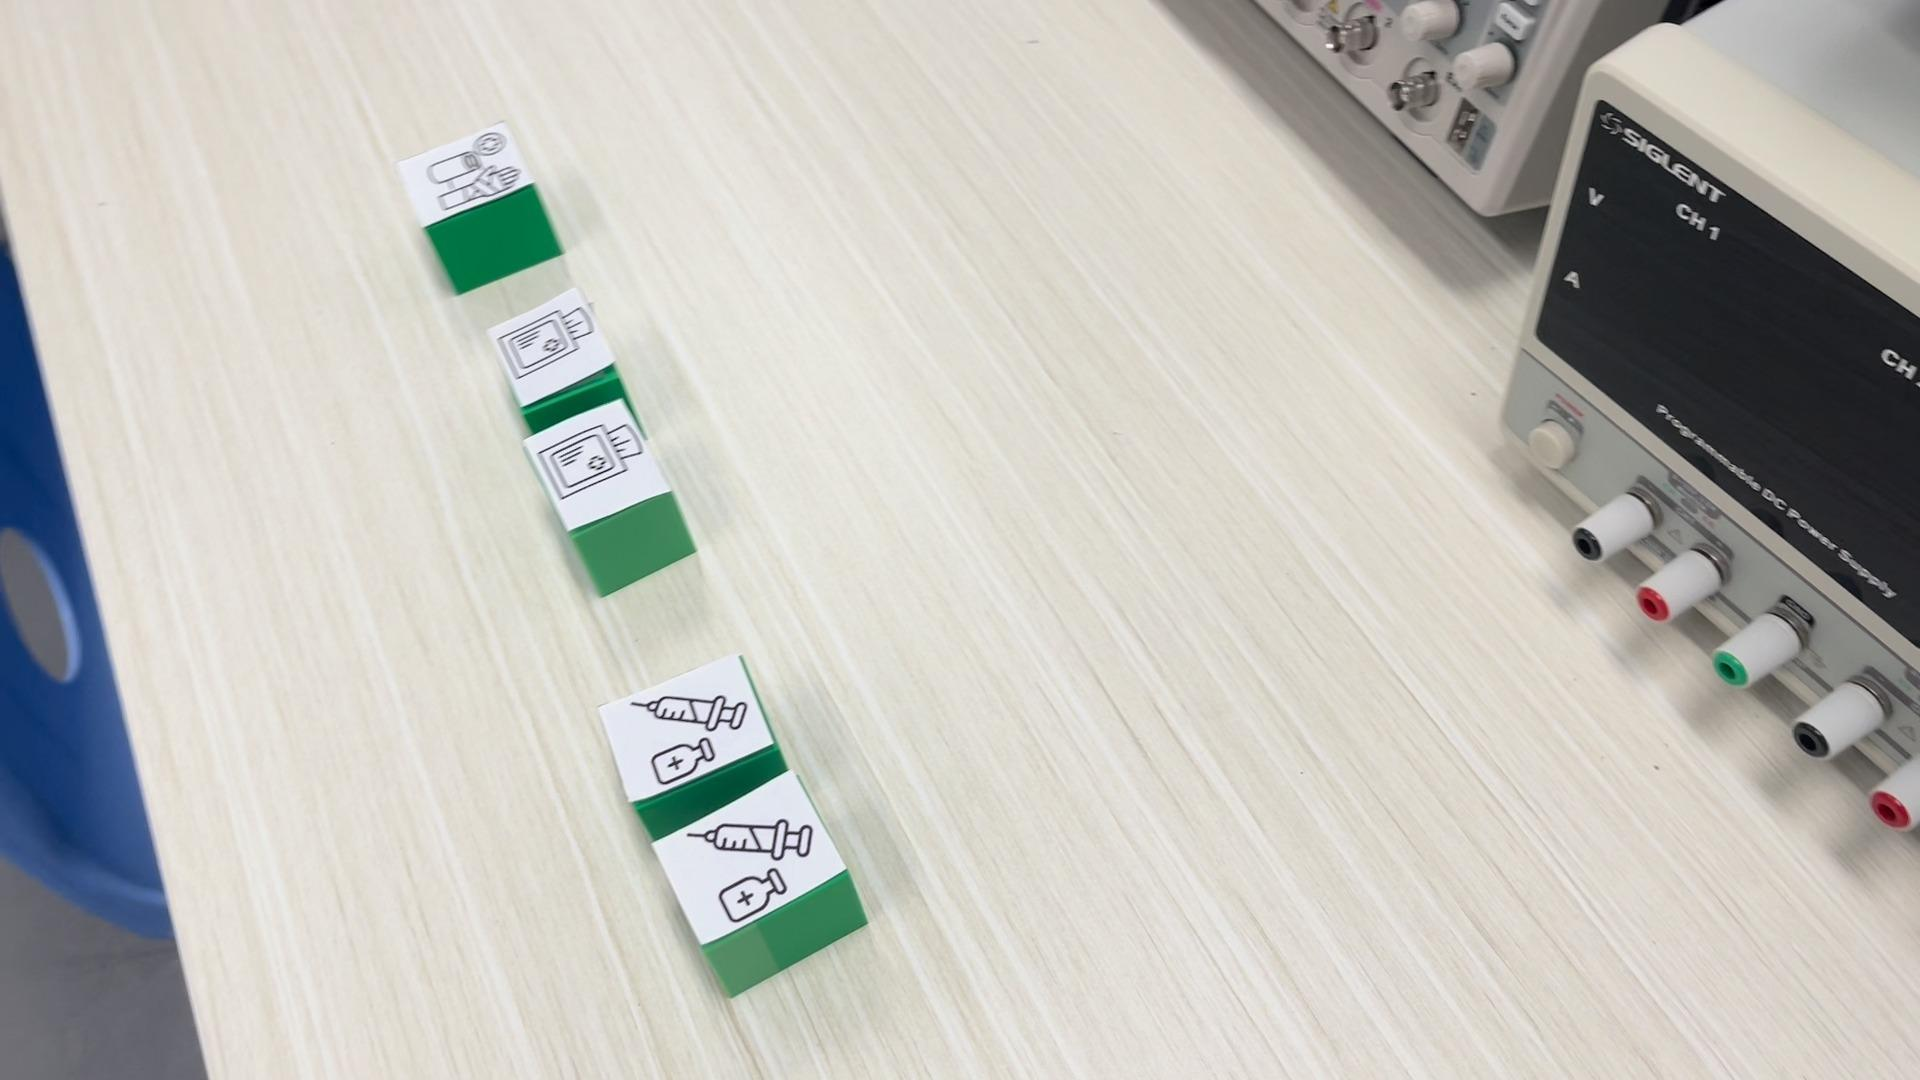Bandages: (393, 119, 564, 295)
Gauze: (524, 396, 695, 599), (487, 285, 617, 418)
antiseptic cream: (640, 770, 870, 998), (596, 651, 777, 804)
